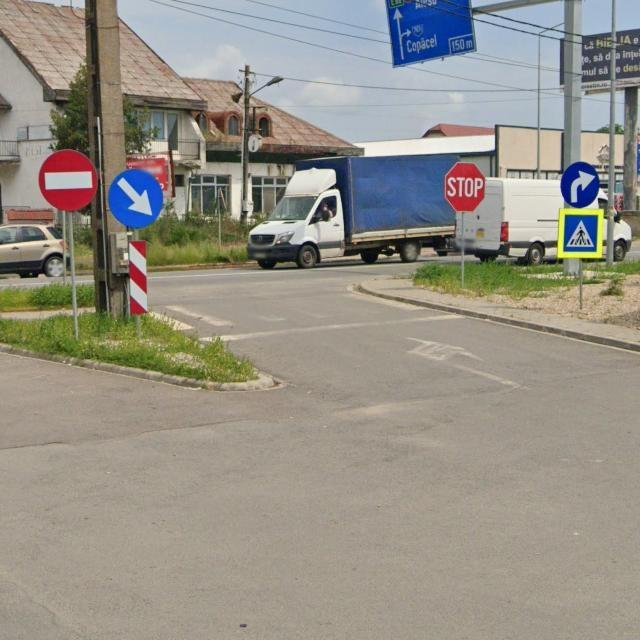info_crosswalk: (558, 208, 604, 259)
prio_stop: (443, 162, 485, 211)
